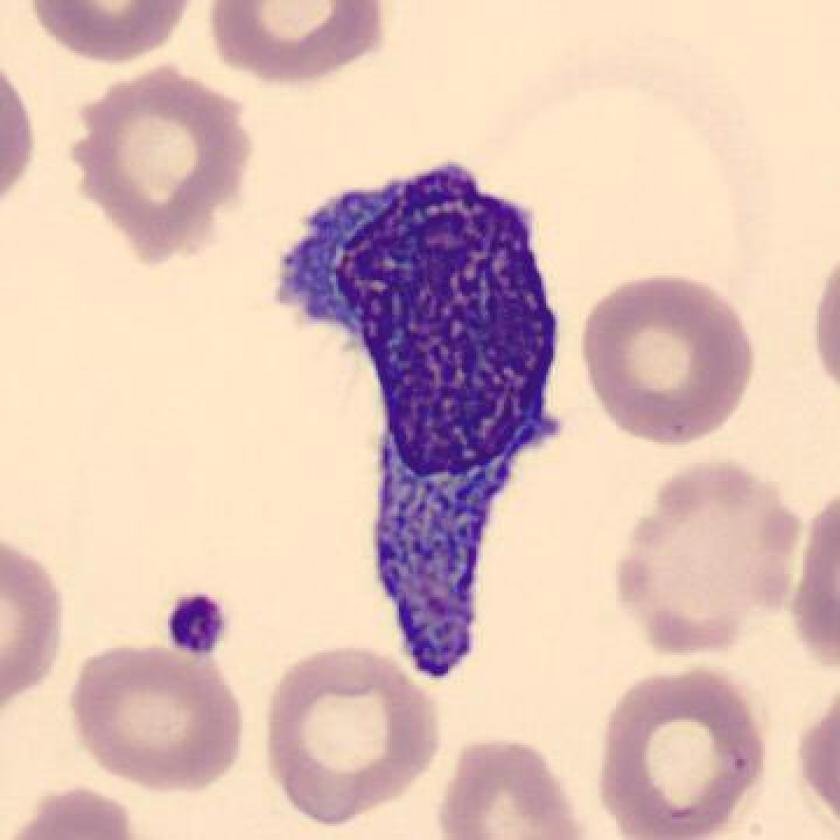monocyte: (258, 140, 580, 690)
